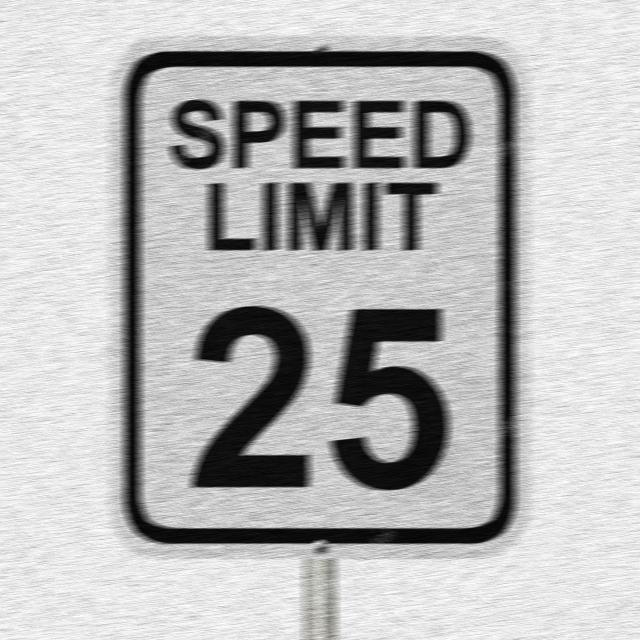speedLimit25: (104, 37, 536, 552)
